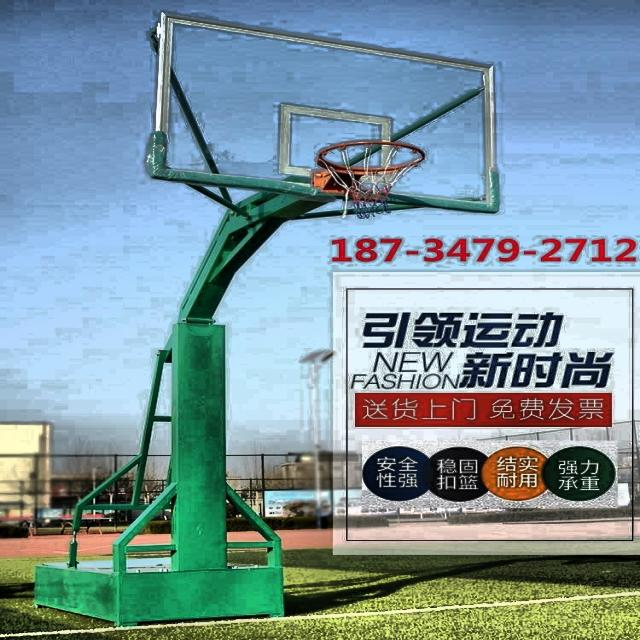rim: (321, 141, 423, 218)
